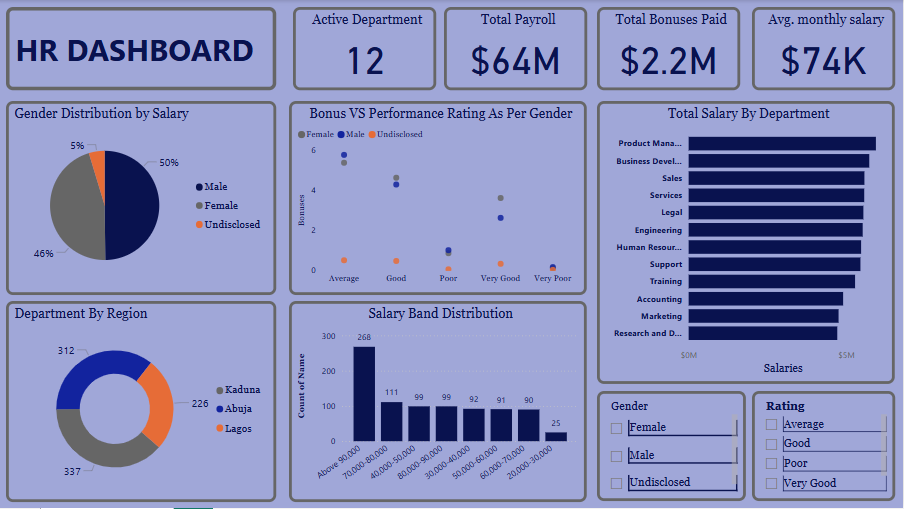

This screenshot's page, from the dashboard's own definition file:
{"tool":"powerbi","page":{"name":"HR DASHBOARD","canvas":[1280,720],"ordinal":0},"visuals":[{"type":"textbox","box":[9.9,9.9,382.7,117.6],"z":0},{"type":"card","title":"Active Department","fields":{"Values":["Count(bonus mapping.Department)"]},"box":[416.7,9.9,202.7,117.6],"z":1000},{"type":"card","title":"Total Payroll","fields":{"Values":["Sum(Employee Dataset.Salary)"]},"box":[630.7,9.9,202.7,117.6],"z":2000},{"type":"card","title":"Total Bonuses Paid","fields":{"Values":["Sum(Employee Dataset.Annual Bonus)"]},"box":[847.6,9.9,202.7,117.6],"z":3000},{"type":"card","title":"Avg. monthly salary","fields":{"Values":["Avg(Employee Dataset.Salary)"]},"box":[1067.2,9.9,202.7,117.6],"z":4000},{"type":"pieChart","title":"Gender Distribution by Salary","fields":{"Y":["Sum(Employee Dataset.Salary)"],"Category":["Employee Dataset.Gender"]},"box":[9.9,143.1,382.7,275],"z":5000},{"type":"barChart","title":"Total Salary By Department","fields":{"Y":["Sum(Employee Dataset.Salary)"],"Category":["Employee Dataset.Department"]},"box":[847.6,143.1,422.4,401.1],"z":6000},{"type":"scatterChart","title":"Bonus VS Performance Rating  As Per Gender","fields":{"X":["Employee Dataset.Rating"],"Y":["Sum(Employee Dataset.Bonus Value)"],"Series":["Employee Dataset.Gender"]},"box":[411,143.1,422.4,275],"z":7000},{"type":"donutChart","title":"Department By Region","fields":{"Y":["CountNonNull(Employee Dataset.Department)"],"Category":["Employee Dataset.Region"]},"box":[9.9,426.6,382.7,284.9],"z":8000},{"type":"columnChart","title":"Salary Band Distribution","fields":{"Category":["Employee Dataset.Salary Band"],"Y":["CountNonNull(Employee Dataset.Name)"]},"box":[411,426.6,422.4,284.9],"z":9000},{"type":"slicer","title":"Gender Distribution by Salary","fields":{"Values":["Employee Dataset.Gender"]},"box":[847.6,554.2,211.2,155.9],"z":10000},{"type":"slicer","title":"Gender Distribution by Salary","fields":{"Values":["Employee Dataset.Rating"]},"box":[1067.2,554.2,202.7,155.9],"z":11000}]}

Visuals, with their boxes in screenshot pixels (x1, y1, x2, y2), scaled from the page's 1280x720 canvas onto the 904x509 screenshot:
textbox: (7, 7, 277, 90)
"Active Department" card: (294, 7, 437, 90)
"Total Payroll" card: (445, 7, 589, 90)
"Total Bonuses Paid" card: (599, 7, 742, 90)
"Avg. monthly salary" card: (754, 7, 897, 90)
"Gender Distribution by Salary" pieChart: (7, 101, 277, 296)
"Total Salary By Department" barChart: (599, 101, 897, 385)
"Bonus VS Performance Rating  As Per Gender" scatterChart: (290, 101, 589, 296)
"Department By Region" donutChart: (7, 302, 277, 503)
"Salary Band Distribution" columnChart: (290, 302, 589, 503)
"Gender Distribution by Salary" slicer: (599, 392, 748, 502)
"Gender Distribution by Salary" slicer: (754, 392, 897, 502)
